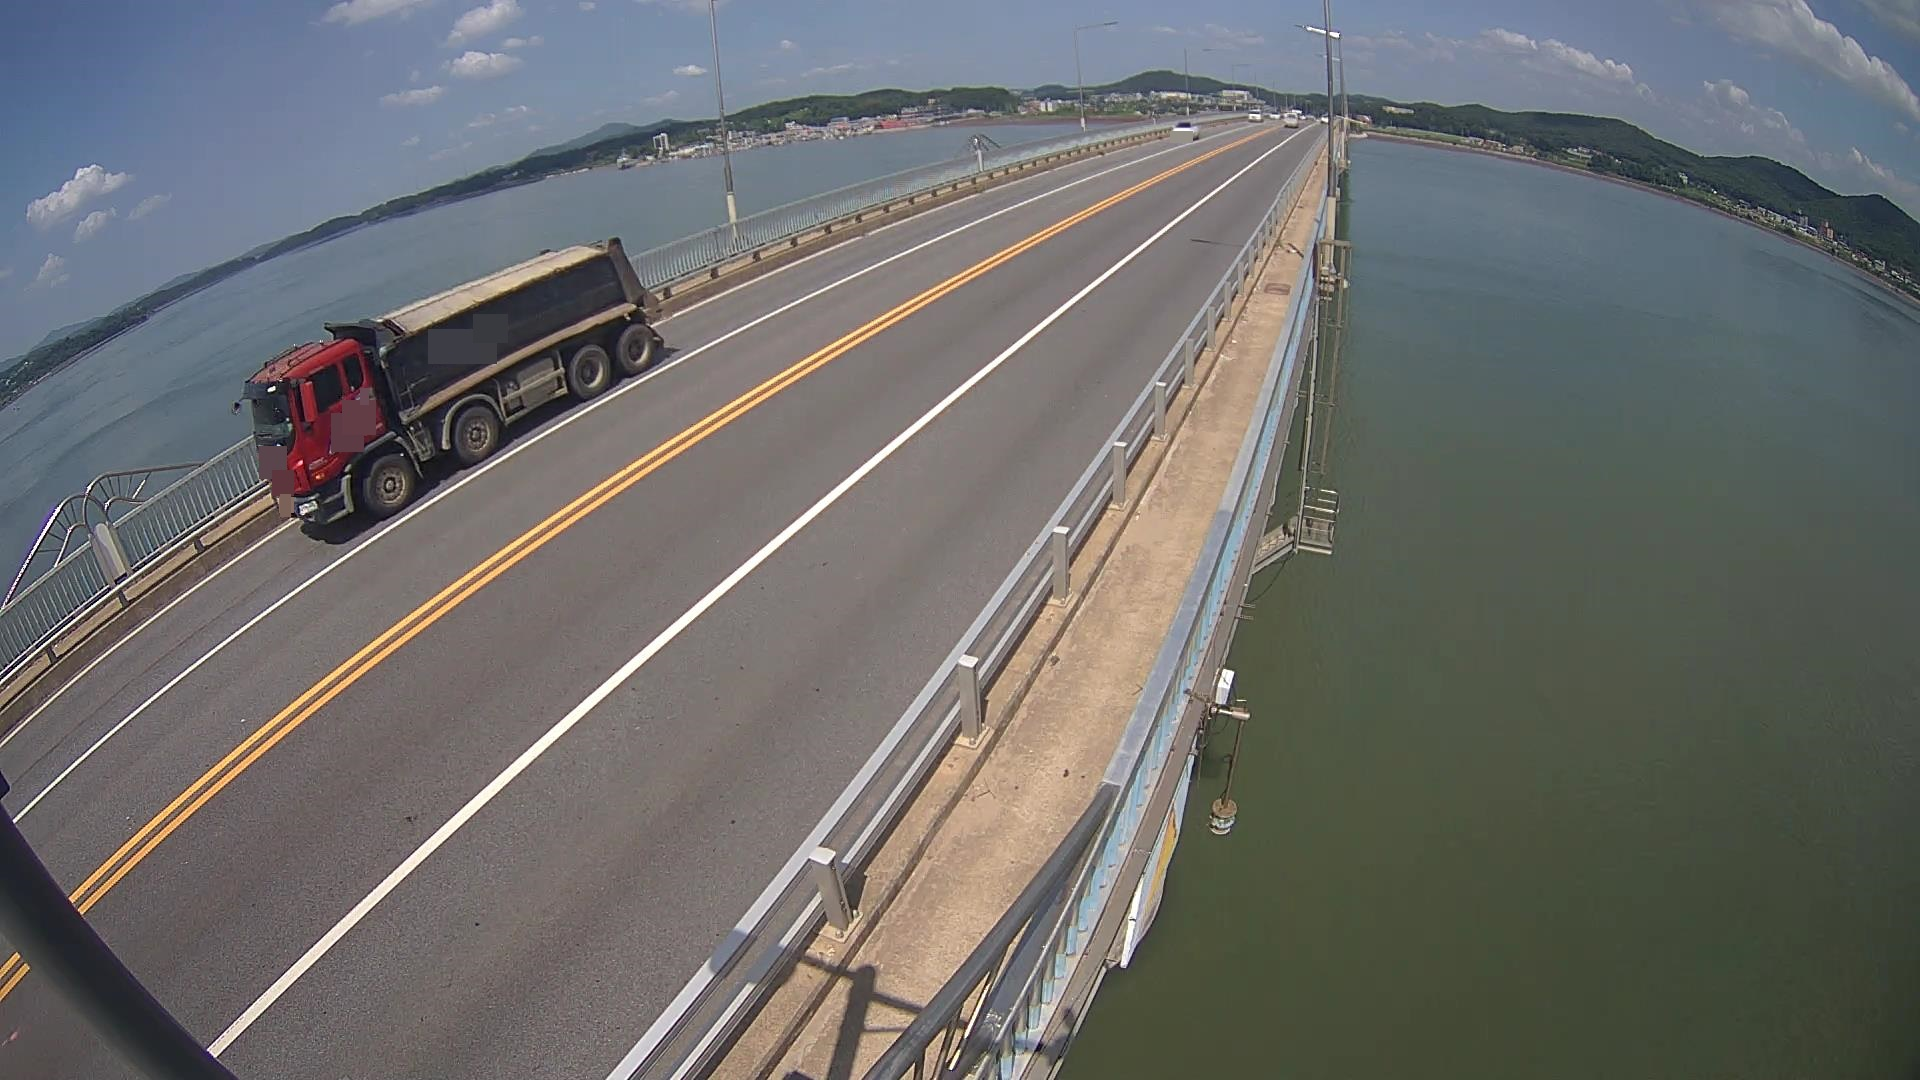정상차량: (233, 237, 665, 526)
